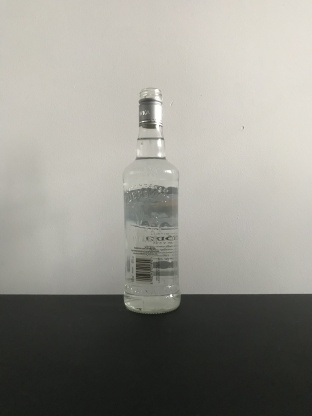nakretka: (137, 85, 164, 129)
